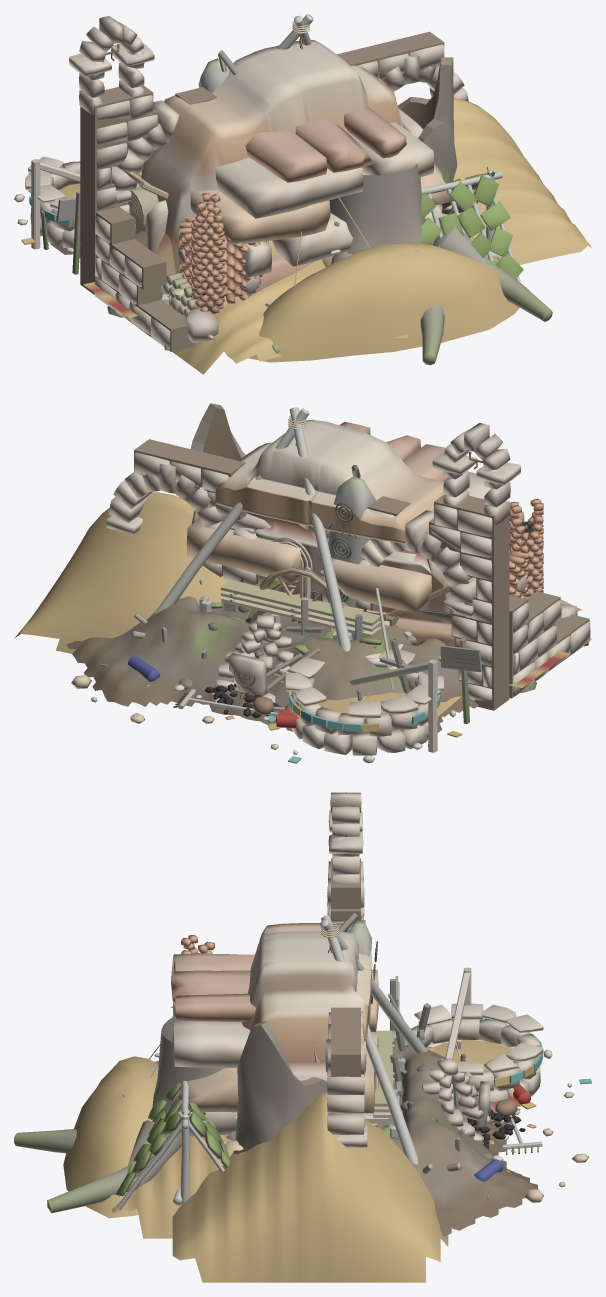
File: sites_warm.glb
3 renders of one model, top to bottom at view 1: azimuth 30°, elevation 25°; view 2: azimuth 150°, elevation 25°; view 3: azimuth 270°, elevation 25°, orthographic. The views are drawn at different scales.
Visible parts, largest first — view 1: site_anselm_desert, site_drowned_outpost, site_glyph_wall, site_rooted_pillar, site_bell_pit, site_charcoal_kiln, site_anselm_forest, site_trading_stones, site_sawpit, site_looted_caravan; view 2: site_drowned_outpost, site_bell_pit, site_glyph_wall, site_anselm_desert, site_sawpit, site_anselm_forest, site_survey_line, site_rooted_pillar, site_looted_caravan, site_charcoal_kiln; view 3: site_drowned_outpost, site_anselm_desert, site_glyph_wall, site_bell_pit, site_anselm_forest, site_rooted_pillar, site_charcoal_kiln, site_survey_line, site_sawpit, site_looted_caravan.
Boxes of the visible parts, box(x1,y1,x2,y2) form: site_anselm_desert: box(140, 106, 519, 362); site_drowned_outpost: box(14, 16, 591, 351); site_glyph_wall: box(135, 40, 529, 374); site_rooted_pillar: box(198, 50, 552, 365); site_bell_pit: box(50, 14, 499, 351); site_charcoal_kiln: box(139, 166, 523, 317); site_anselm_forest: box(40, 57, 457, 317); site_trading_stones: box(145, 197, 370, 286); site_sawpit: box(127, 187, 176, 306); site_looted_caravan: box(65, 165, 168, 317); site_drowned_outpost: box(14, 423, 590, 763); site_bell_pit: box(66, 407, 588, 747); site_glyph_wall: box(71, 419, 591, 749); site_anselm_desert: box(186, 422, 524, 612); site_sawpit: box(211, 580, 478, 716); site_anselm_forest: box(101, 403, 536, 746); site_survey_line: box(195, 566, 310, 712); site_rooted_pillar: box(134, 465, 375, 624); site_looted_caravan: box(128, 566, 568, 728); site_charcoal_kiln: box(173, 580, 394, 718); site_drowned_outpost: box(154, 792, 591, 1282); site_anselm_desert: box(63, 953, 378, 1218); site_glyph_wall: box(111, 923, 588, 1238); site_bell_pit: box(173, 915, 537, 1236); site_anselm_forest: box(224, 976, 504, 1199); site_rooted_pillar: box(14, 912, 432, 1213); site_charcoal_kiln: box(116, 993, 542, 1209); site_survey_line: box(422, 1058, 510, 1149); site_sawpit: box(364, 1030, 402, 1134); site_looted_caravan: box(374, 1036, 530, 1181).
Size of the model in its own units: 6.75 by 4.35 by 7.37.
